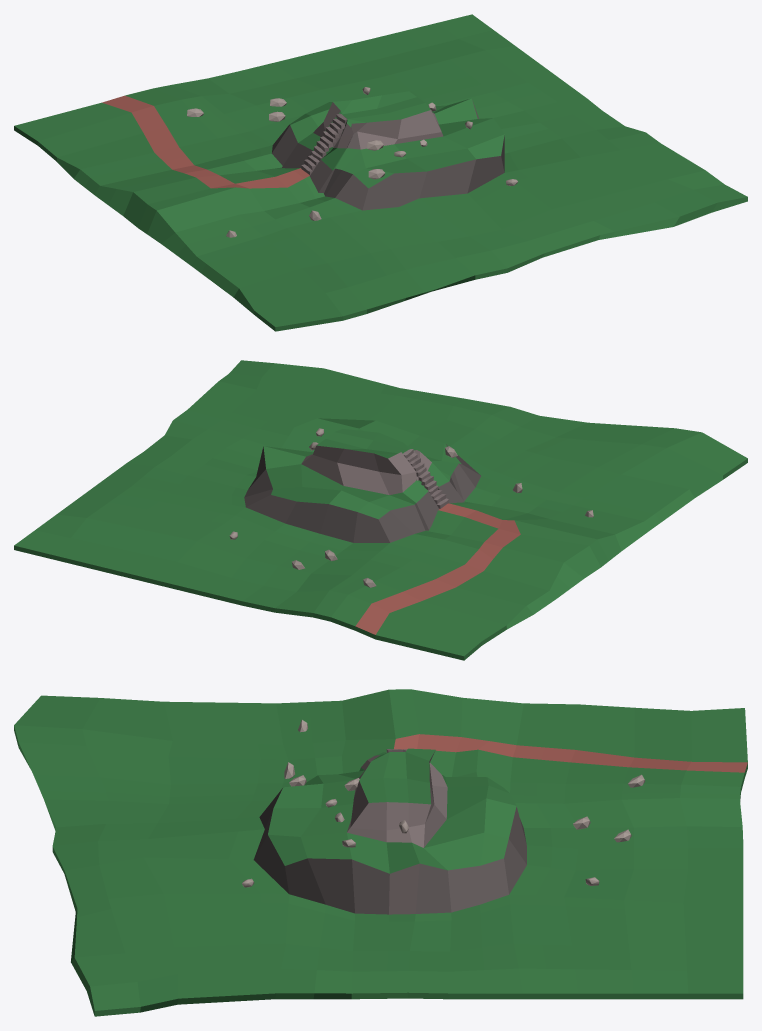
File: Ground_Greek.fbx
3 renders of one model, top to bottom at view 1: azimuth 30°, elevation 25°; view 2: azimuth 150°, elevation 25°; view 3: azimuth 270°, elevation 25°, orthographic. The views are drawn at different scales.
Parts seen in each view (by area): view 1: Ground_Greek; view 2: Ground_Greek; view 3: Ground_Greek.
Boxes of the visible parts, box(x1,y1,x2,y2) form: Ground_Greek: box(14, 14, 747, 331); Ground_Greek: box(14, 360, 747, 660); Ground_Greek: box(14, 689, 747, 1016).
Bounding box in the file's own units: 2127 × 2139 × 292.
